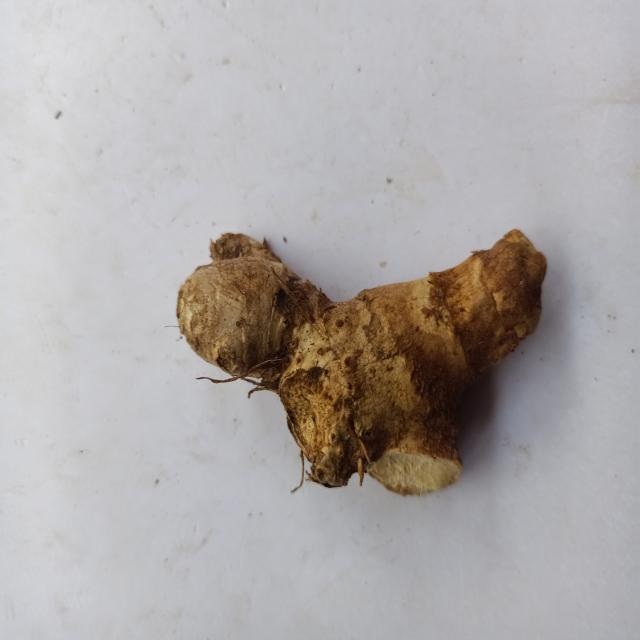Ginger: (176, 229, 547, 495)
